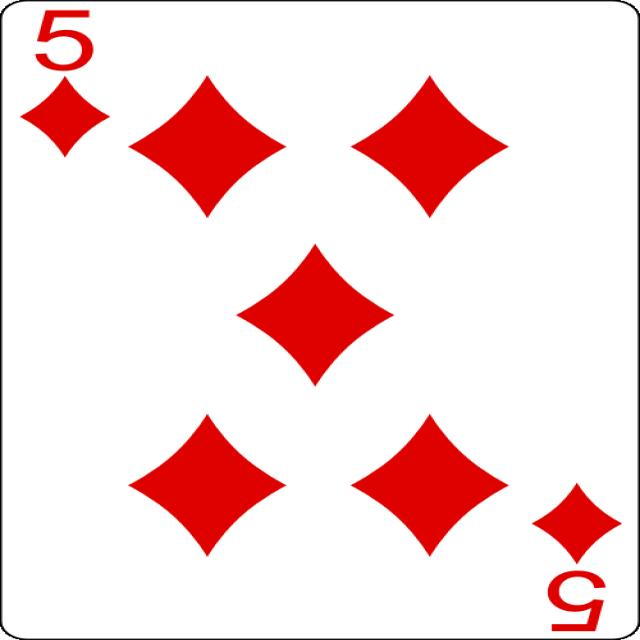Diamond: (234, 243, 394, 388), (349, 412, 509, 557), (128, 413, 287, 558), (350, 74, 510, 218), (128, 74, 287, 218), (530, 482, 622, 565), (20, 75, 110, 158)
